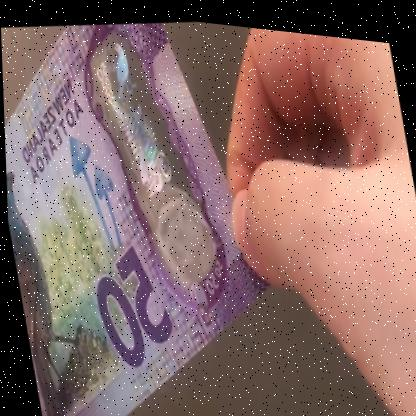50B: (89, 26, 208, 278)
